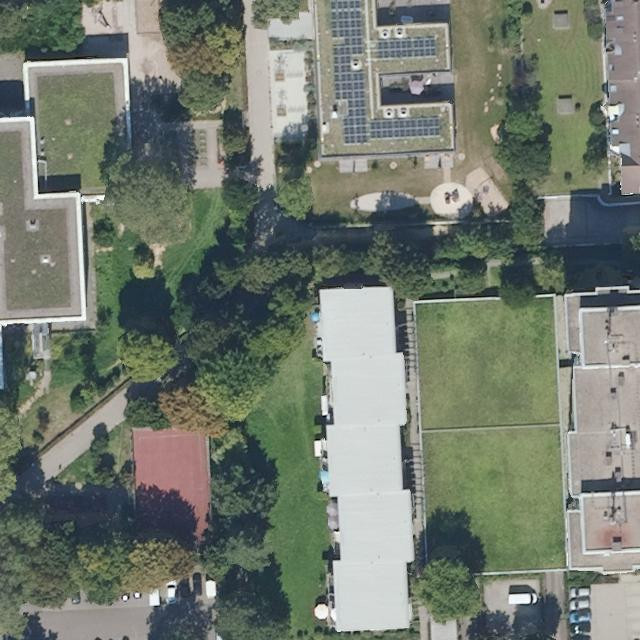PV: (325, 1, 444, 145)
